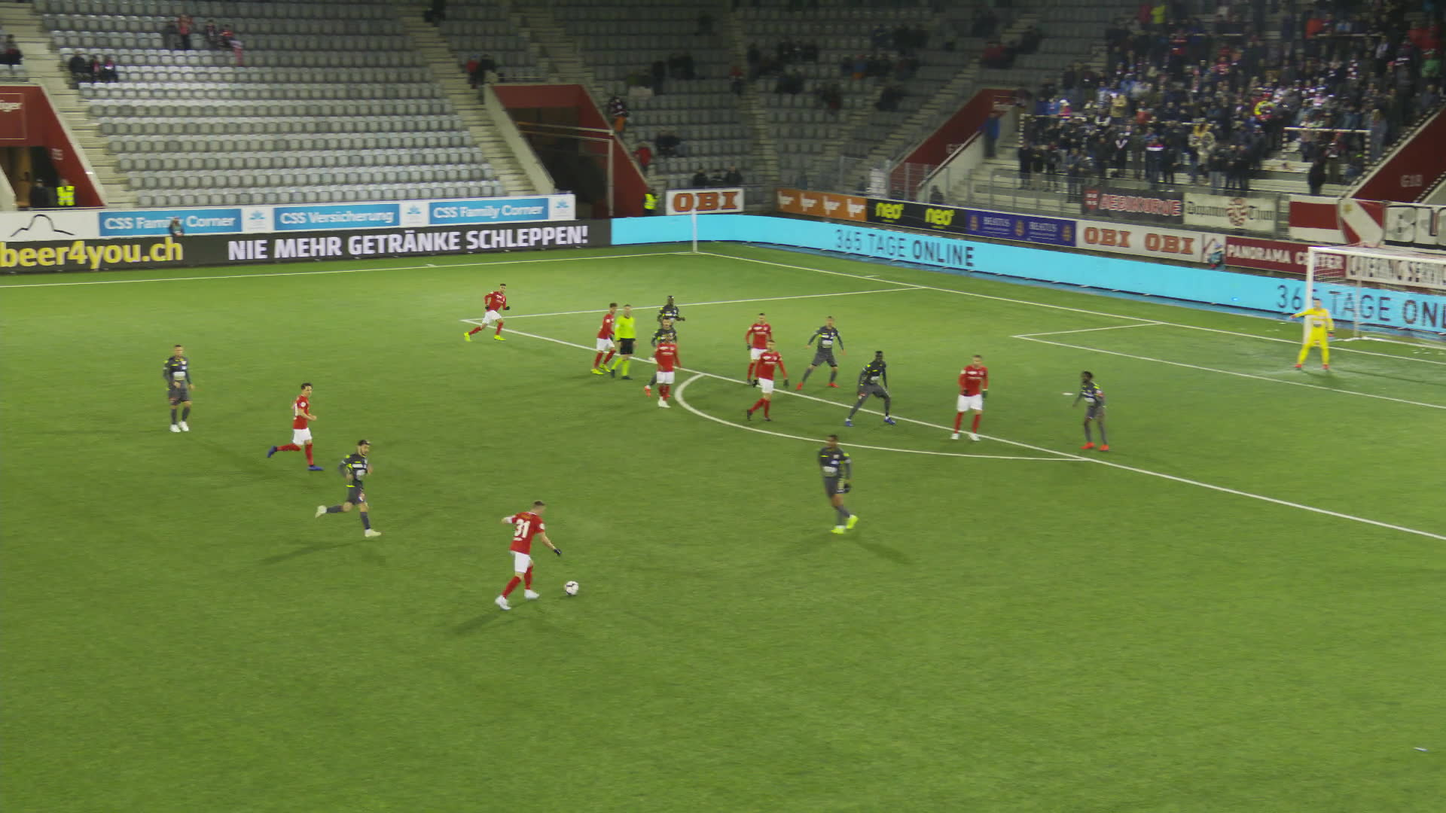ball: (569, 580, 584, 595)
player: (499, 501, 561, 610), (317, 437, 374, 540), (827, 434, 871, 533), (271, 382, 319, 472), (849, 348, 898, 427), (801, 315, 848, 390), (753, 339, 795, 420), (958, 357, 999, 439), (1297, 297, 1341, 370), (1078, 373, 1119, 450), (164, 344, 197, 433), (648, 321, 682, 398), (588, 303, 624, 373), (469, 279, 507, 342), (749, 312, 779, 386), (659, 333, 688, 409), (654, 296, 685, 346)
referee: (618, 305, 645, 380)
